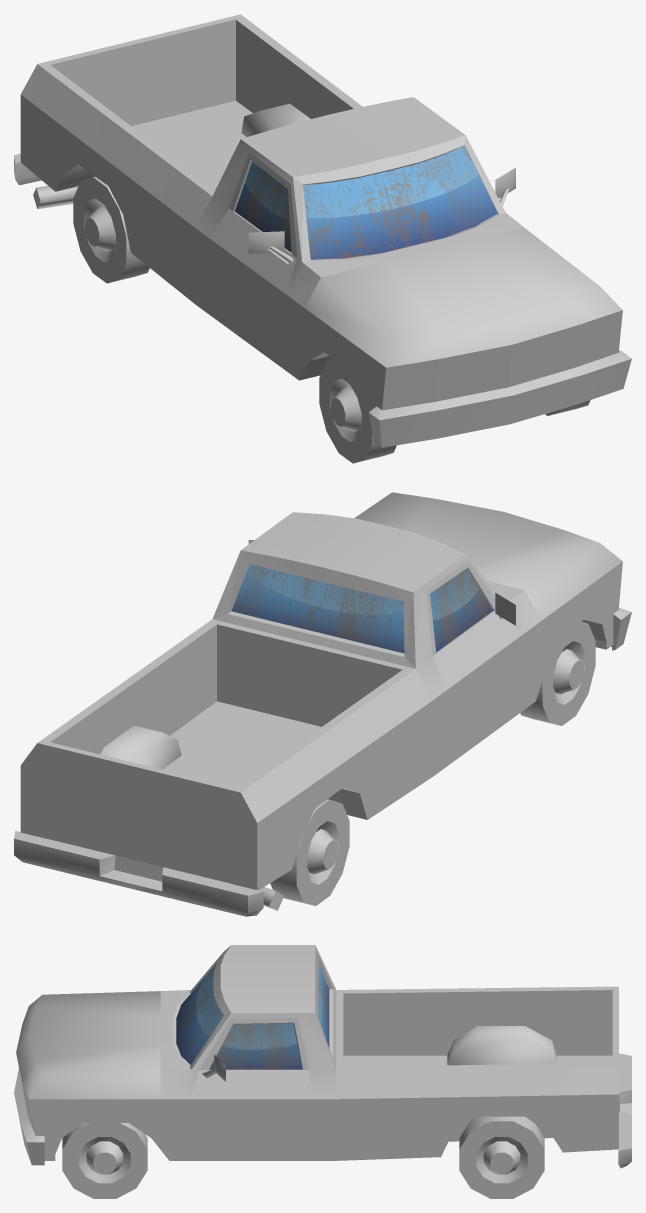
Rendered from Veh_PickupTruck.FBX.
3 renders of one model, top to bottom at view 1: azimuth 30°, elevation 25°; view 2: azimuth 150°, elevation 25°; view 3: azimuth 270°, elevation 25°, orthographic. The views are drawn at different scales.
Visible parts, largest first — view 1: Veh_PickupTruck, hood, glass_windshieldFront, tailgate, door_frontR, wheel_backR, wheel_frontR, glass_frontR, light_frontR, light_frontL; view 2: Veh_PickupTruck, tailgate, hood, door_frontR, glass_windshieldRear, wheel_backR, wheel_frontR, glass_frontR, light_rearR, light_rearL; view 3: Veh_PickupTruck, hood, door_frontL, wheel_backL, wheel_frontL, glass_frontL, glass_windshieldFront, glass_windshieldRear, tailgate.
Boxes of the visible parts, left/top/right/bottom form: Veh_PickupTruck: left=14, top=14, right=631, bottom=447; hood: left=305, top=228, right=622, bottom=367; glass_windshieldFront: left=303, top=145, right=496, bottom=259; tailgate: left=46, top=16, right=235, bottom=125; door_frontR: left=209, top=152, right=296, bottom=367; wheel_backR: left=73, top=176, right=149, bottom=283; wheel_frontR: left=319, top=359, right=396, bottom=463; glass_frontR: left=235, top=161, right=291, bottom=252; light_frontR: left=382, top=359, right=438, bottom=409; light_frontL: left=575, top=310, right=622, bottom=366; Veh_PickupTruck: left=14, top=512, right=631, bottom=916; tailgate: left=46, top=742, right=235, bottom=883; hood: left=354, top=492, right=622, bottom=620; door_frontR: left=426, top=560, right=521, bottom=764; glass_windshieldRear: left=231, top=564, right=404, bottom=653; wheel_backR: left=270, top=799, right=349, bottom=905; wheel_frontR: left=520, top=621, right=595, bottom=725; glass_frontR: left=430, top=569, right=492, bottom=651; light_rearR: left=231, top=791, right=257, bottom=889; light_rearL: left=20, top=745, right=45, bottom=838; Veh_PickupTruck: left=14, top=945, right=631, bottom=1168; hood: left=16, top=991, right=160, bottom=1099; door_frontL: left=191, top=1017, right=313, bottom=1159; wheel_backL: left=459, top=1116, right=544, bottom=1198; wheel_frontL: left=62, top=1123, right=147, bottom=1198; glass_frontL: left=209, top=1023, right=302, bottom=1069; glass_windshieldFront: left=176, top=964, right=223, bottom=1064; glass_windshieldRear: left=318, top=965, right=329, bottom=1047; tailgate: left=612, top=990, right=618, bottom=1063.
Bounding box in the file's own units: 200 × 158 × 496.
